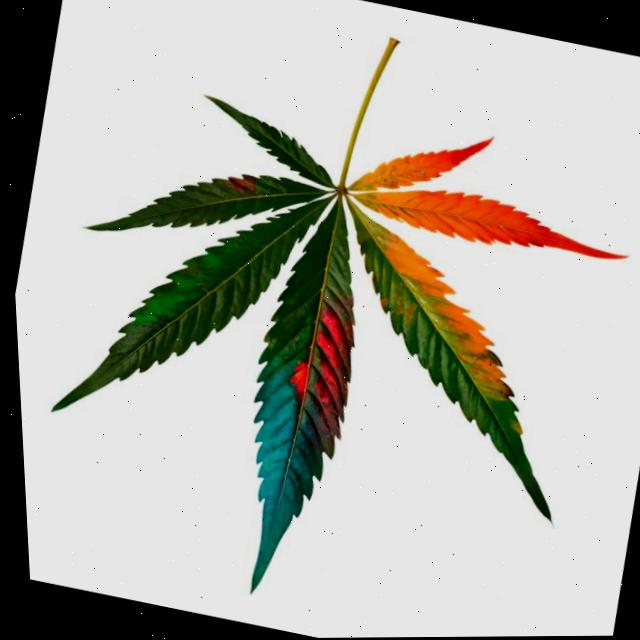cannabis: (51, 33, 624, 589)
